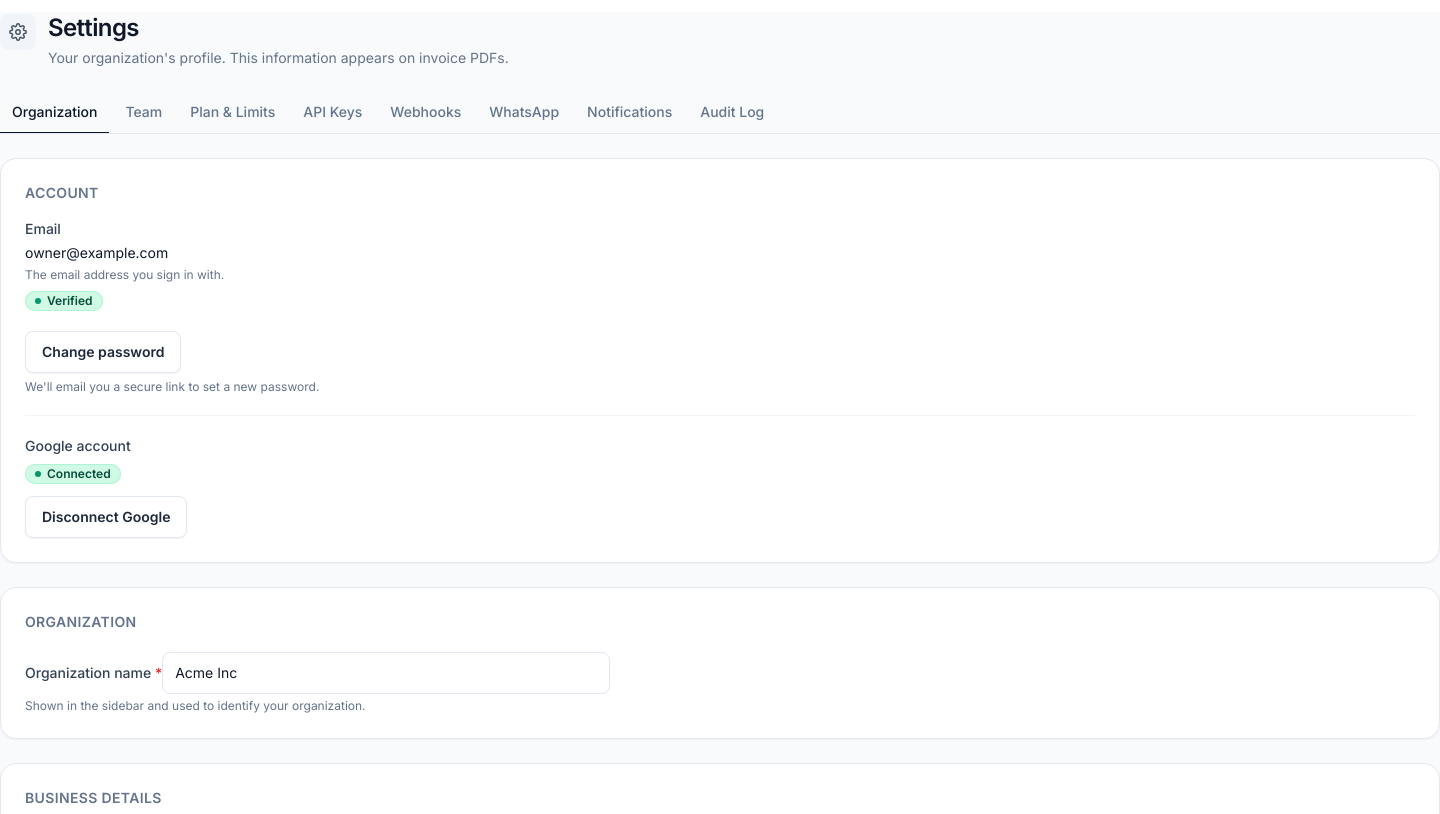
Test: SettingsPage Google account section › shows an error message when disconnect fails
The width and height of the screenshot is (1440, 814).
Click the button "Disconnect Google" at (106, 517), box [25,496,187,538]
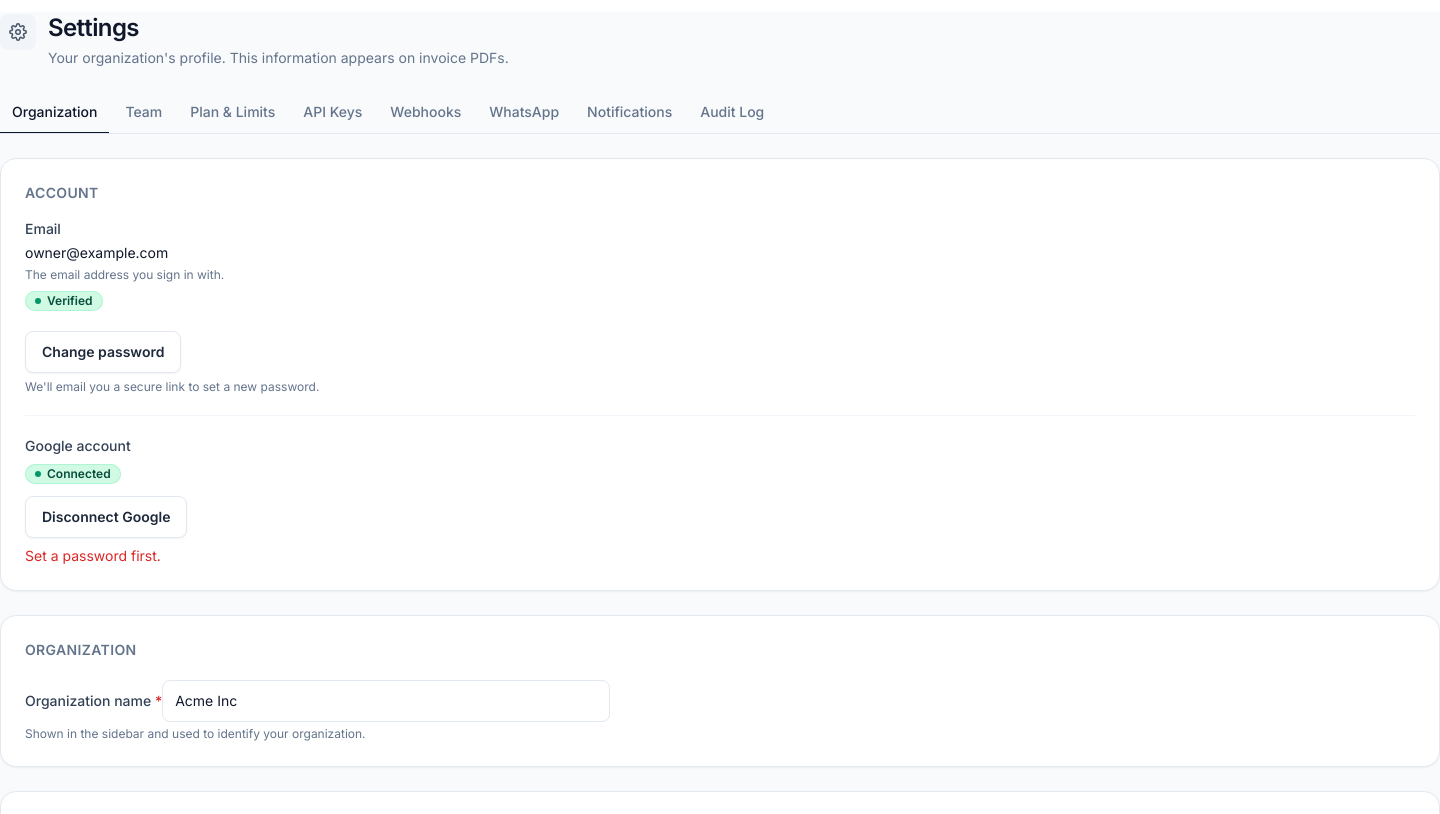
Expected: the text "Set a password first." is shown, [25,547,161,564]
